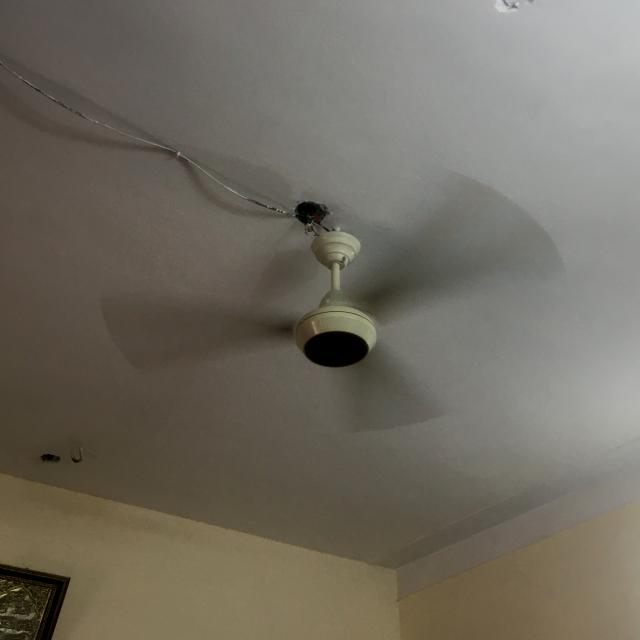on: (97, 159, 578, 442)
